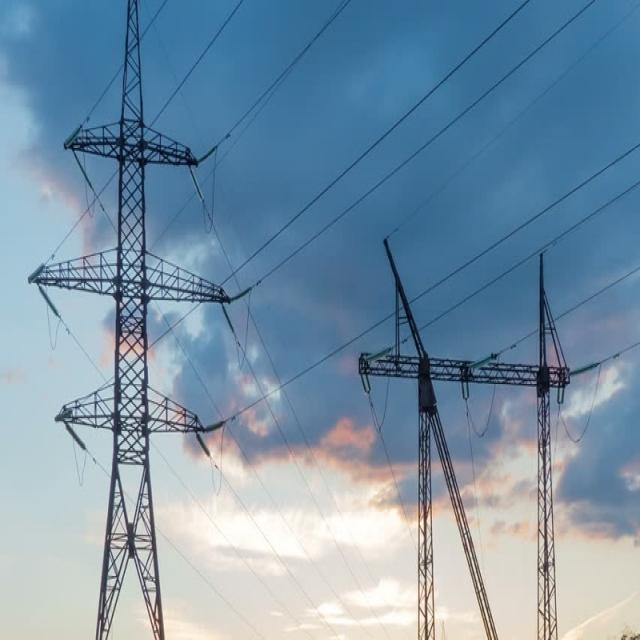non-critical vegetation: (38, 2, 220, 632), (356, 220, 601, 632)
